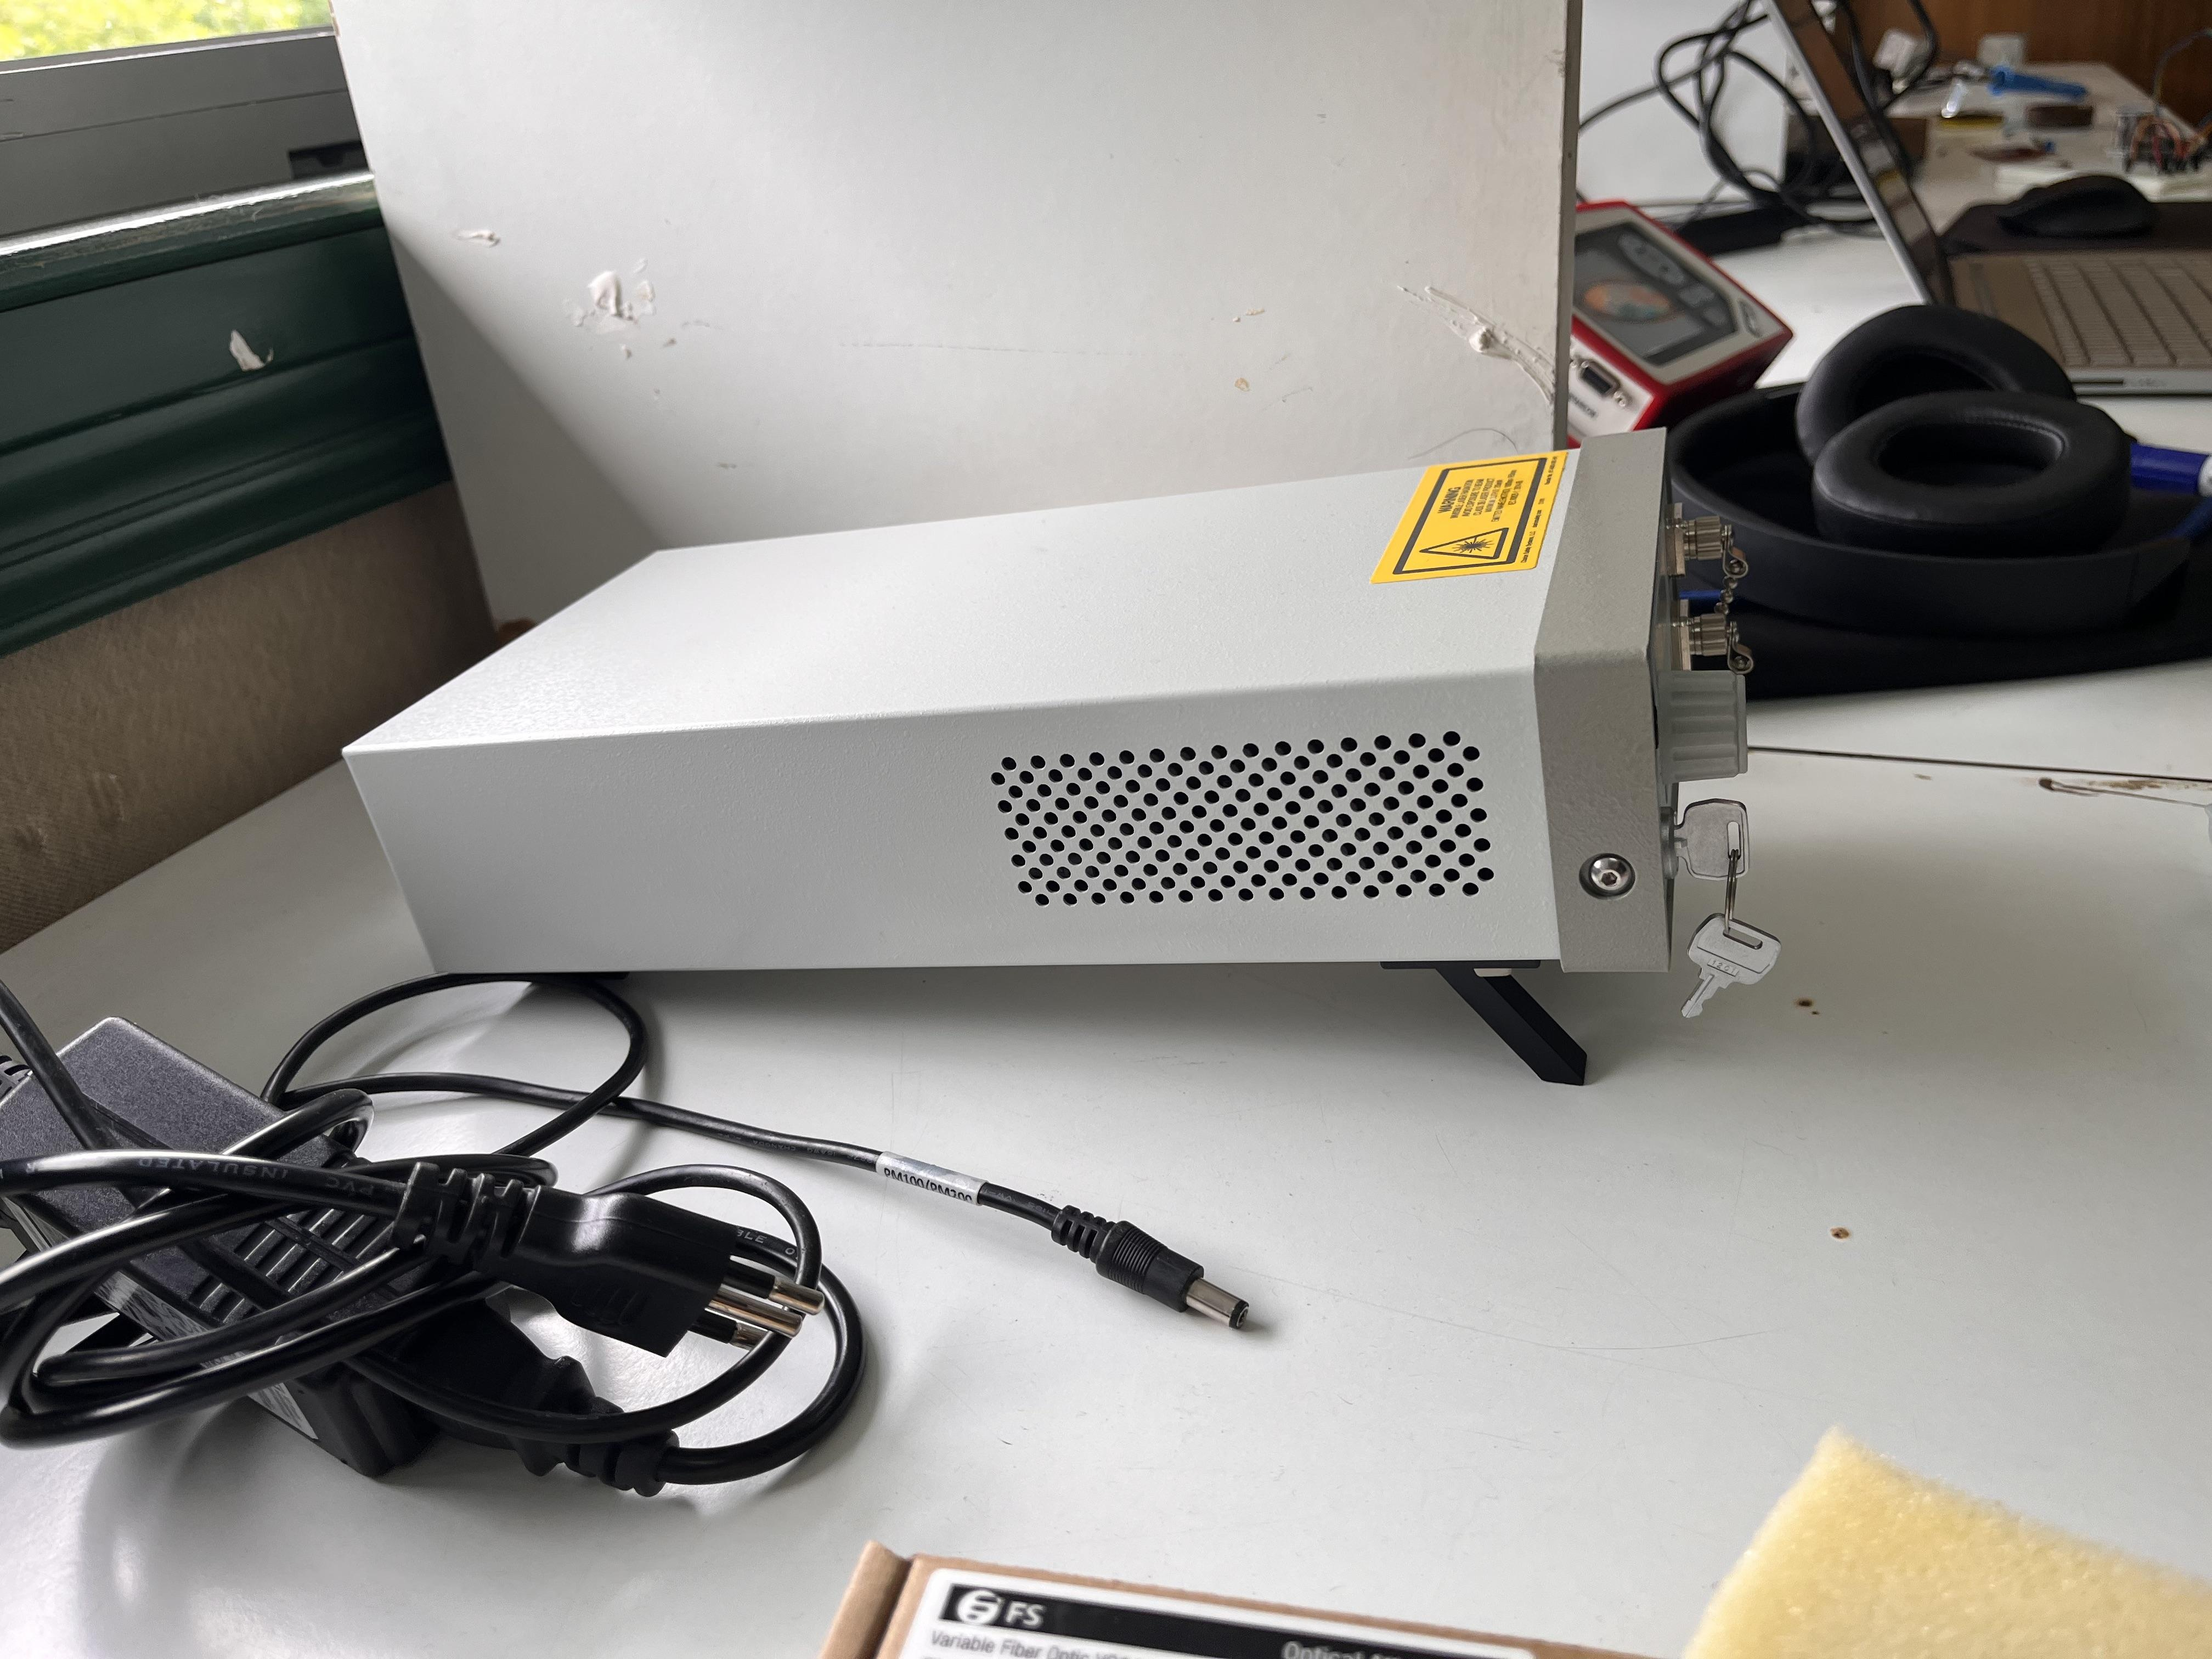laser: (324, 406, 1764, 996)
